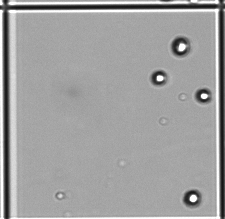Living Cell: (170, 36, 190, 58), (183, 189, 202, 208), (150, 70, 168, 87), (195, 88, 211, 104)
